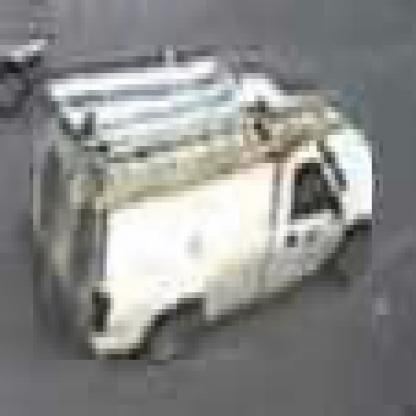truck: (34, 46, 377, 366)
